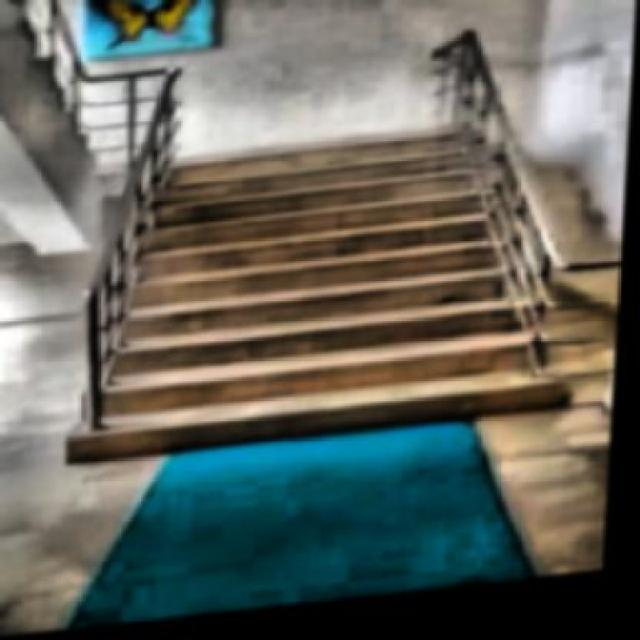stair: (106, 136, 583, 464)
